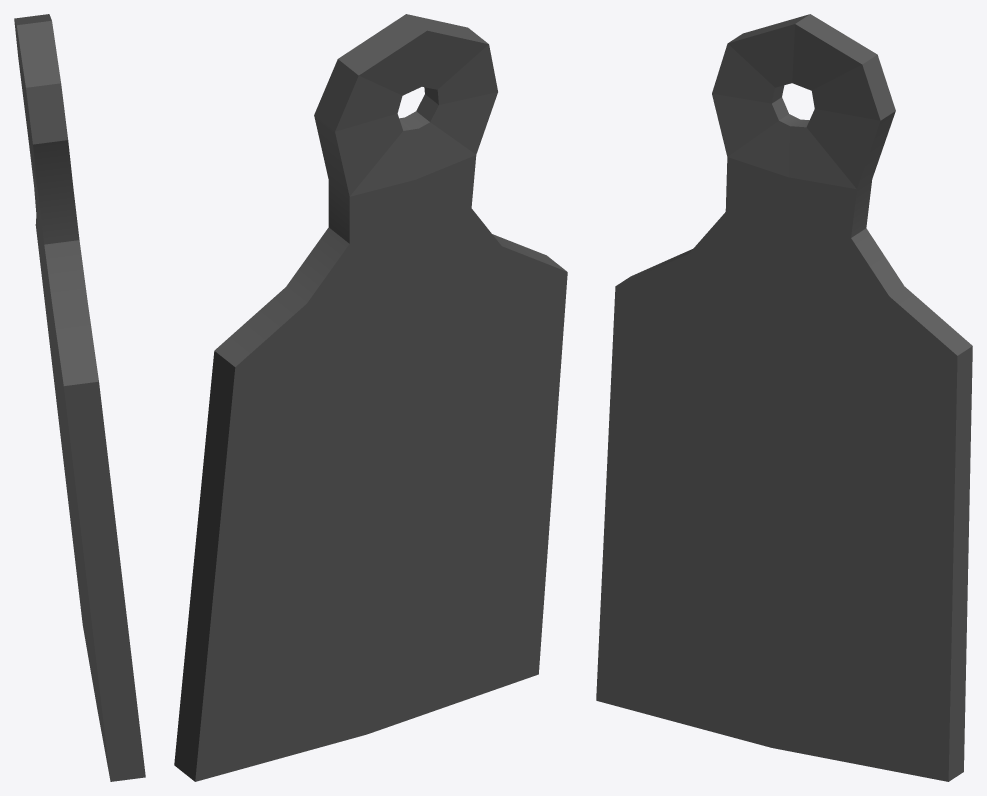
File: Kitchen_2_Board.fbx
3 renders of one model, left to right at view 1: azimuth 30°, elevation 25°; view 2: azimuth 150°, elevation 25°; view 3: azimuth 270°, elevation 25°, orthographic. The views are drawn at different scales.
Visible parts, largest first — view 1: Kitchen_2_Board; view 2: Kitchen_2_Board; view 3: Kitchen_2_Board.
Part boxes in pixels (x1,y1,x2,y2): Kitchen_2_Board: [14, 14, 145, 781]; Kitchen_2_Board: [174, 14, 567, 781]; Kitchen_2_Board: [596, 14, 972, 781].
Bounding box in the file's own units: 17.43 × 54.29 × 26.71.
